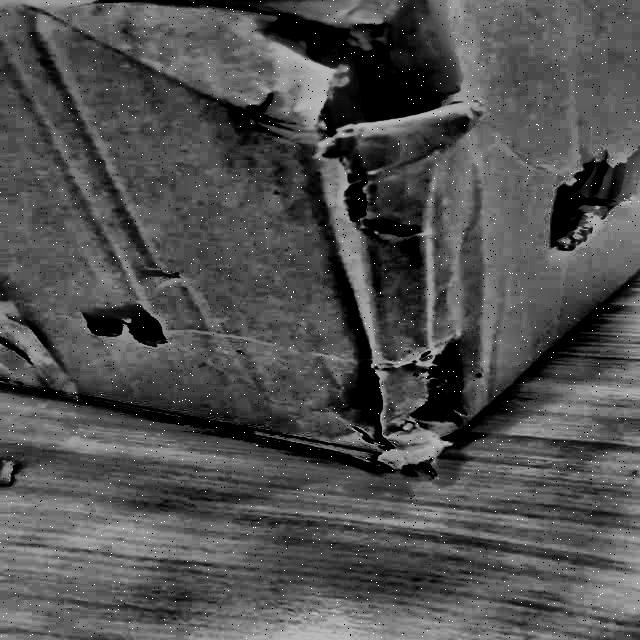box: (1, 0, 640, 491)
hole: (241, 5, 461, 143), (326, 300, 483, 467), (530, 154, 634, 256), (70, 307, 175, 347)
